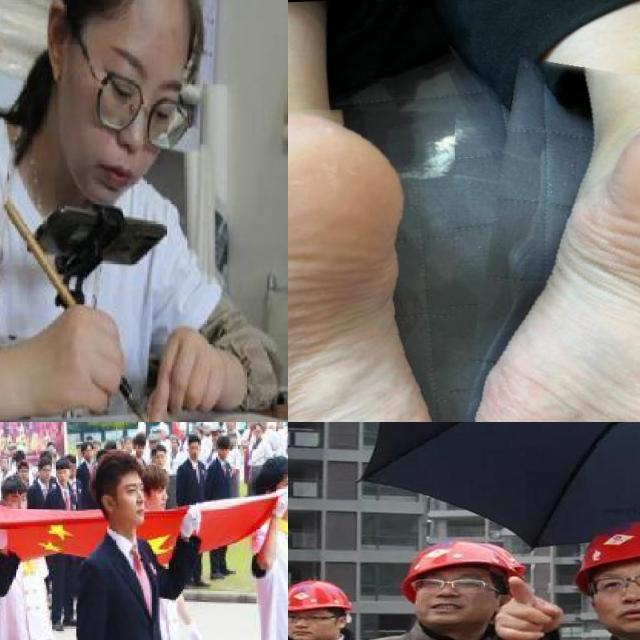Barefoots: (448, 60, 640, 422), (288, 100, 465, 422)
No_Ear-Protection: (42, 0, 71, 82)
No_Glasses: (119, 482, 145, 496)
face_nomask: (55, 34, 188, 208), (414, 573, 486, 619), (104, 469, 155, 522), (597, 573, 640, 629), (288, 611, 329, 640)
glasses: (89, 66, 195, 151), (408, 576, 491, 598), (590, 568, 640, 599), (288, 608, 335, 625)
hand_glove: (180, 502, 202, 540), (272, 489, 288, 517), (187, 621, 204, 640), (0, 520, 10, 544), (41, 631, 55, 640)
hand_noglove: (35, 304, 128, 416), (147, 321, 222, 422), (486, 573, 568, 640)
head_helmet: (402, 538, 531, 585), (575, 512, 640, 583), (288, 577, 355, 615)
head_nohelmet: (72, 0, 215, 32), (87, 448, 143, 480)
person: (0, 0, 288, 422), (319, 532, 568, 640), (67, 448, 181, 640), (239, 462, 288, 640)
